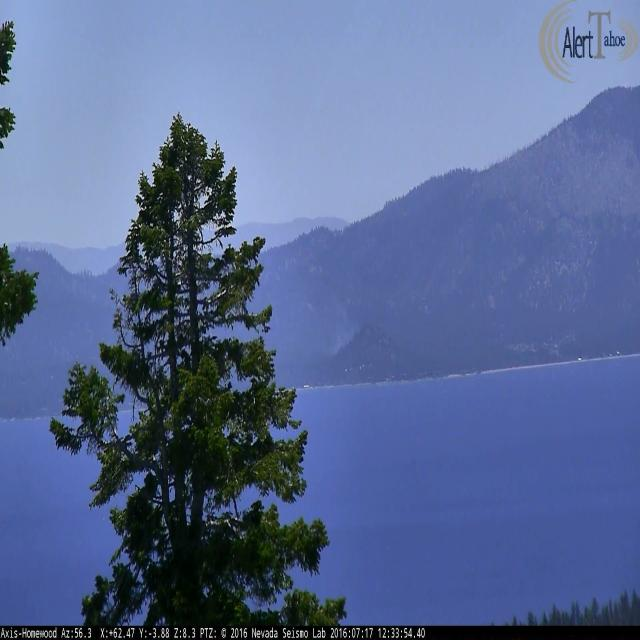smoke: (331, 304, 359, 363)
